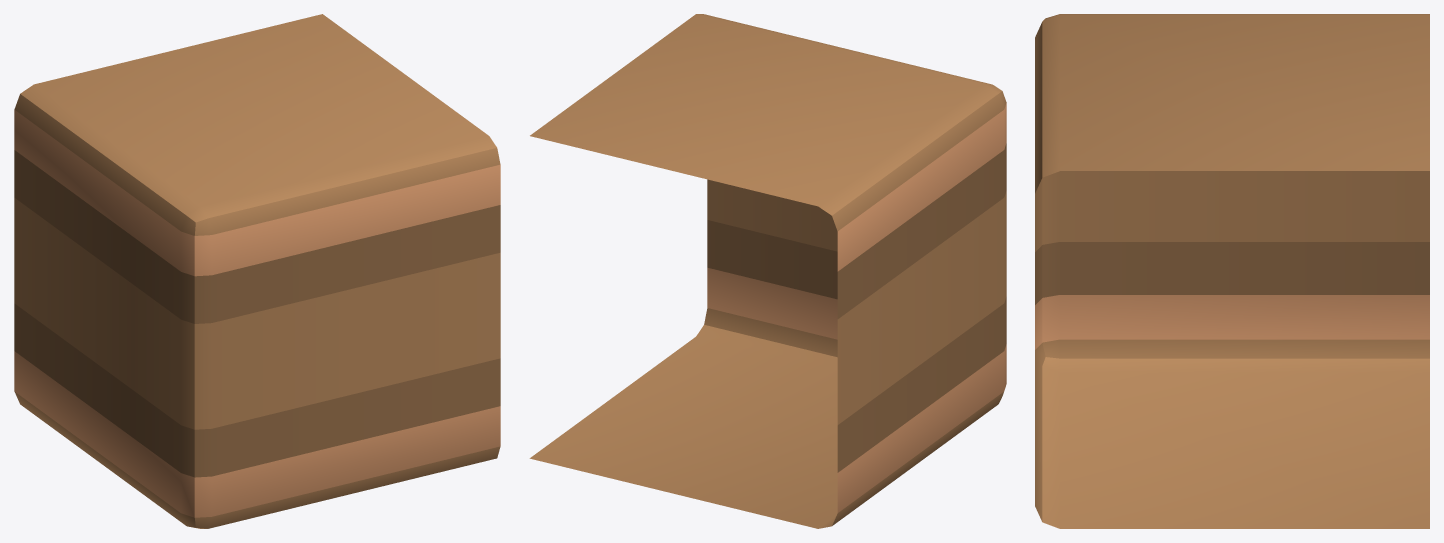
Rendered from quaternius-platformer-game-cube-dirt-corner.glb.
3 renders of one model, left to right at view 1: azimuth 30°, elevation 25°; view 2: azimuth 150°, elevation 25°; view 3: azimuth 270°, elevation 25°, orthographic. The views are drawn at different scales.
Visible parts, largest first — view 1: Cube_Dirt_Corner; view 2: Cube_Dirt_Corner; view 3: Cube_Dirt_Corner.
Boxes of the visible parts, x1=… form: Cube_Dirt_Corner: x1=14, y1=14, x2=500, y2=528; Cube_Dirt_Corner: x1=529, y1=14, x2=1006, y2=528; Cube_Dirt_Corner: x1=1035, y1=14, x2=1429, y2=528.
Bounding box in the file's own units: 2 × 2 × 2.
